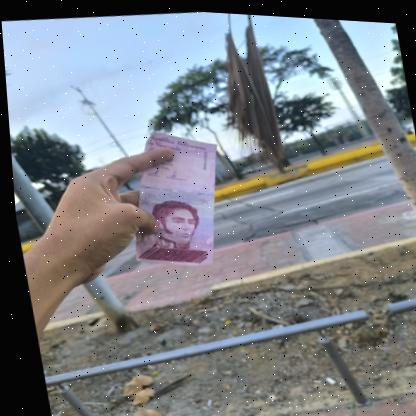one_hundred-front-vef: (109, 121, 235, 272)
